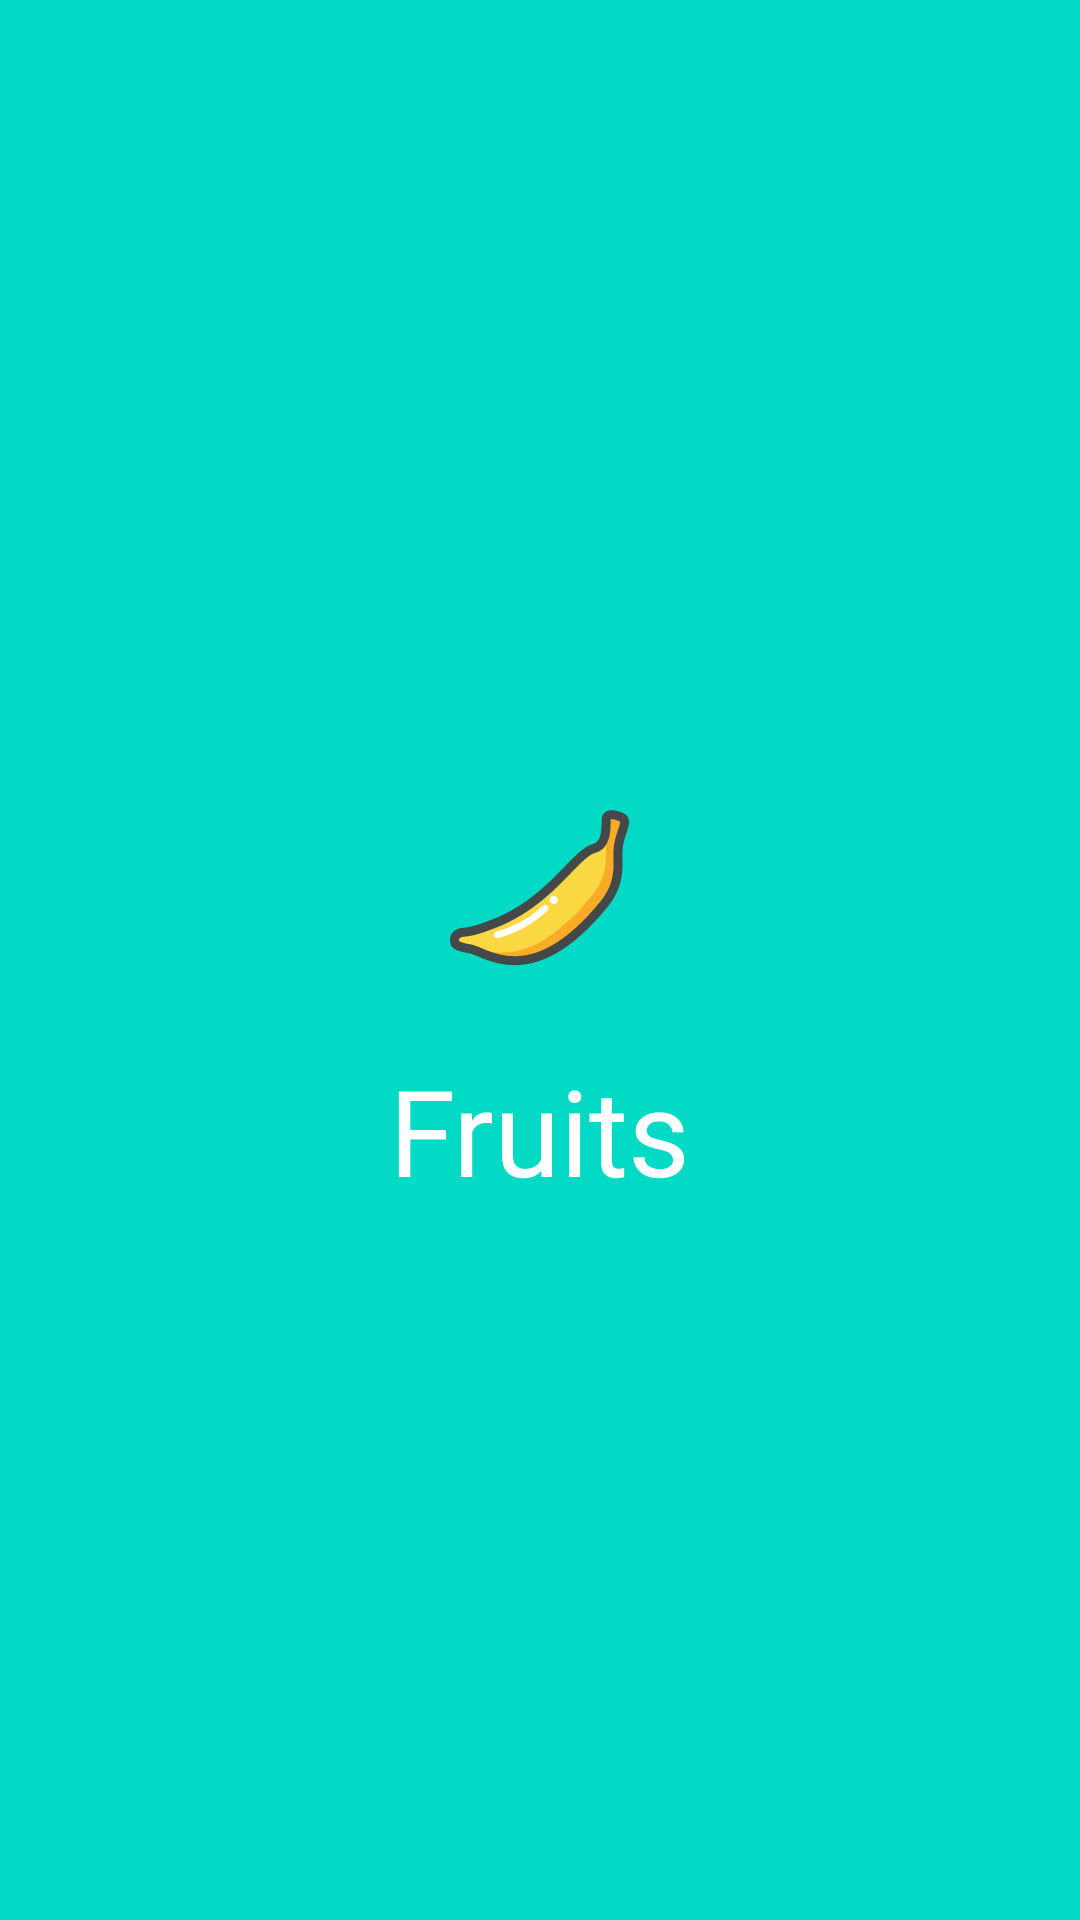

Named icons in this screenshot (1080x1920) and their centers, point (x, y):
banana: point (539, 888)
